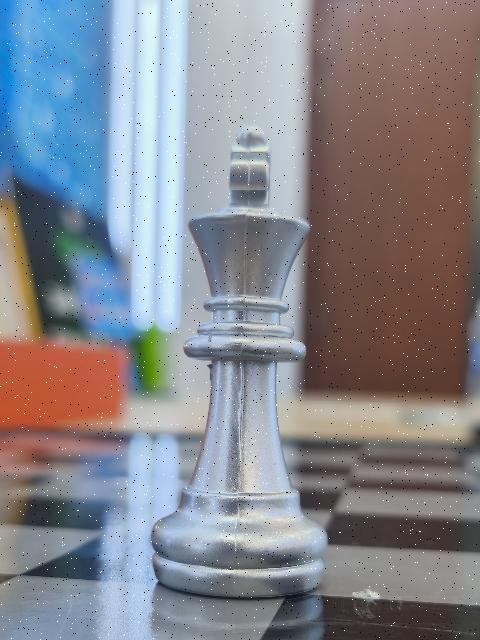white_king: (149, 121, 329, 601)
